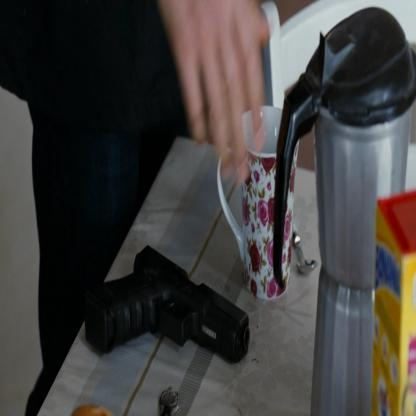gun: (81, 235, 252, 392)
